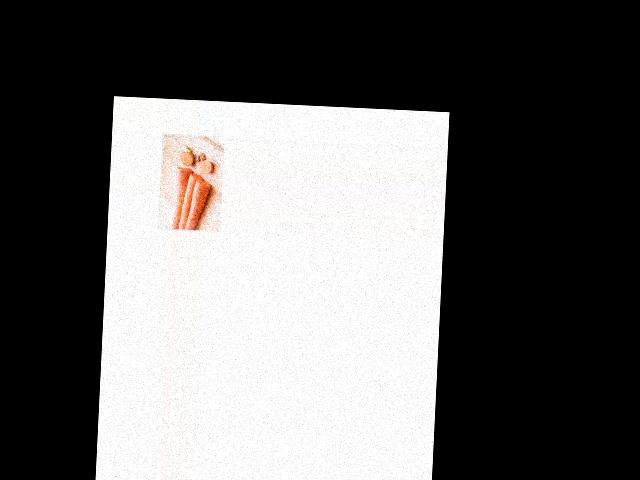carrot: (188, 173, 211, 232)
